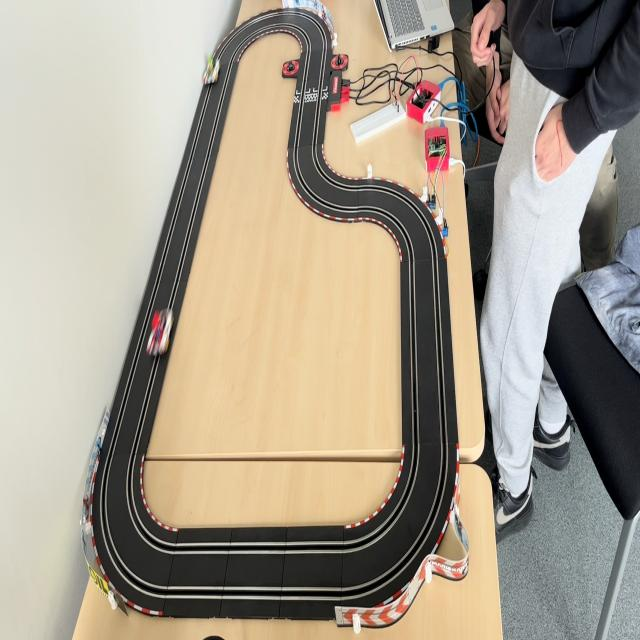mario: (144, 301, 177, 360)
yoshi: (202, 57, 224, 87)
